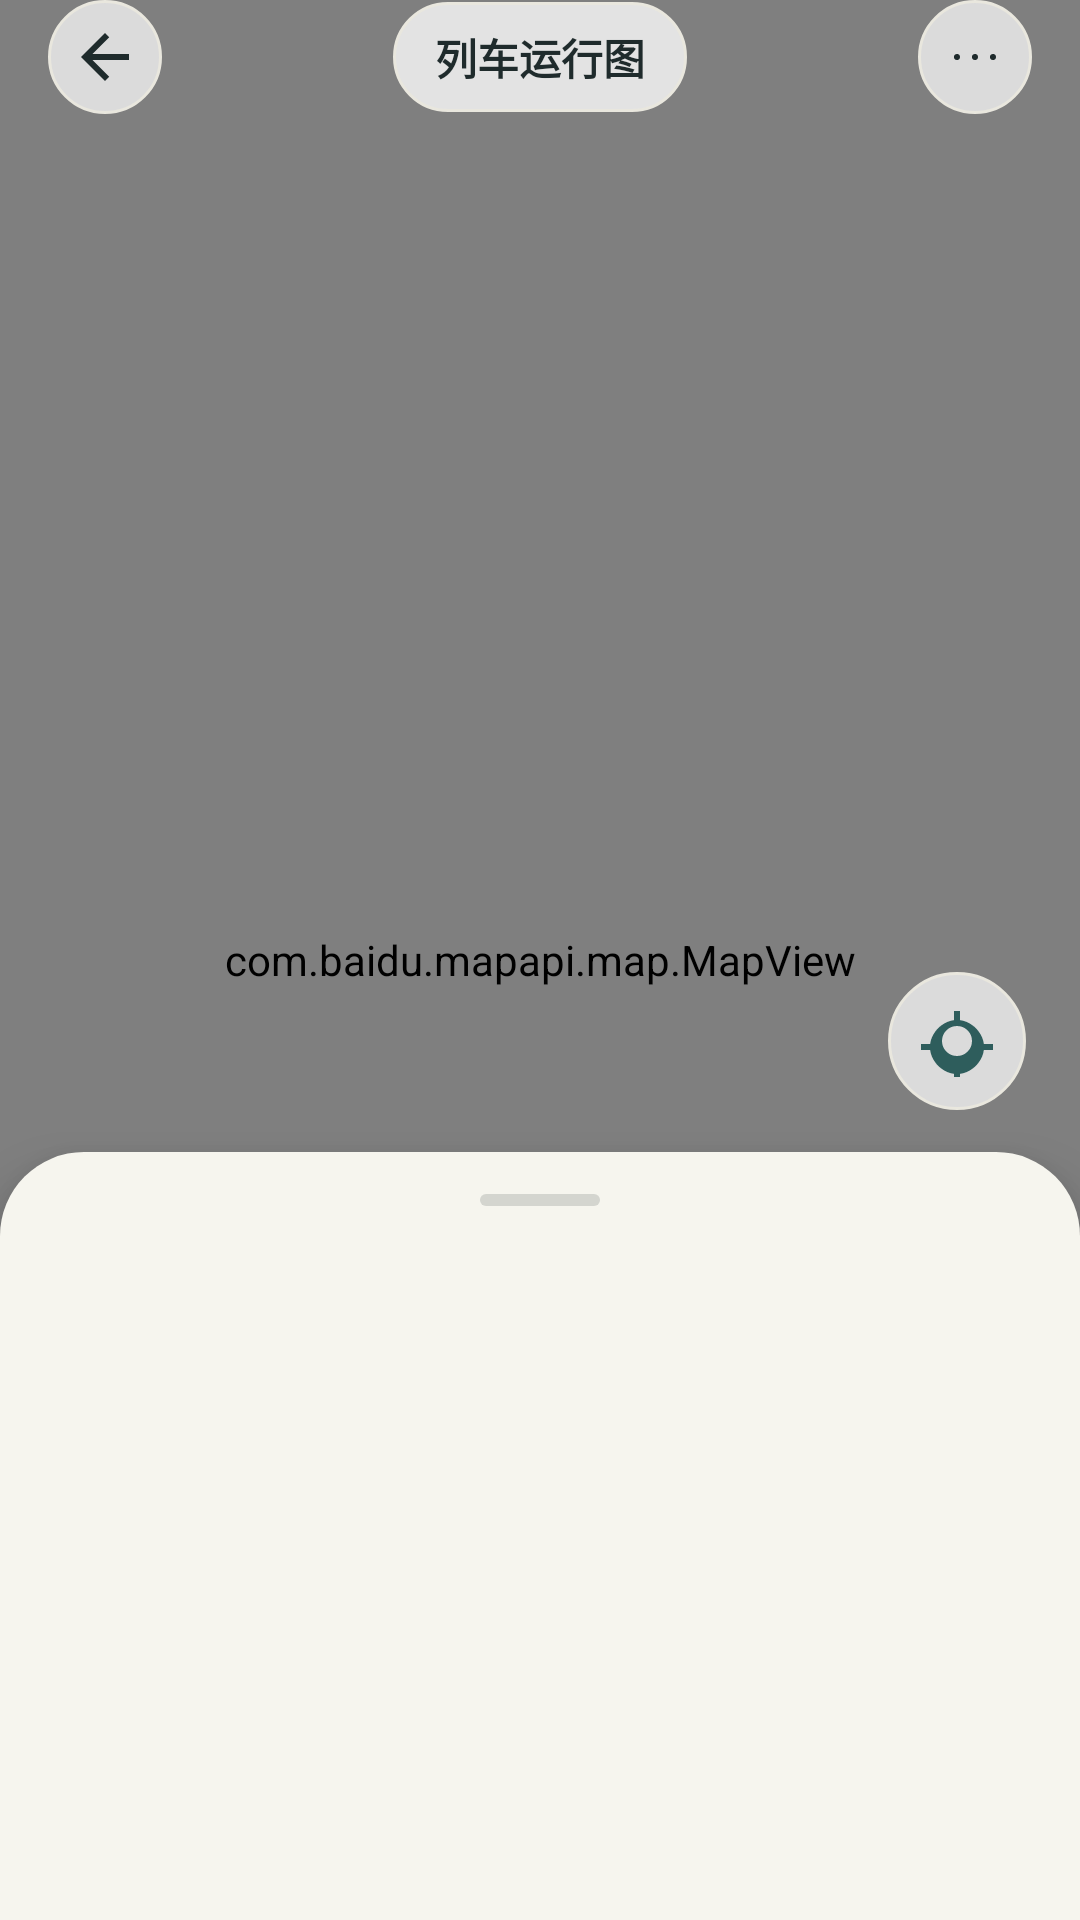

Named icons in this screenshot (1080 × 1920) and their centers, (x=x, y=y):
更多: (x=975, y=57)
返回: (x=105, y=57)
